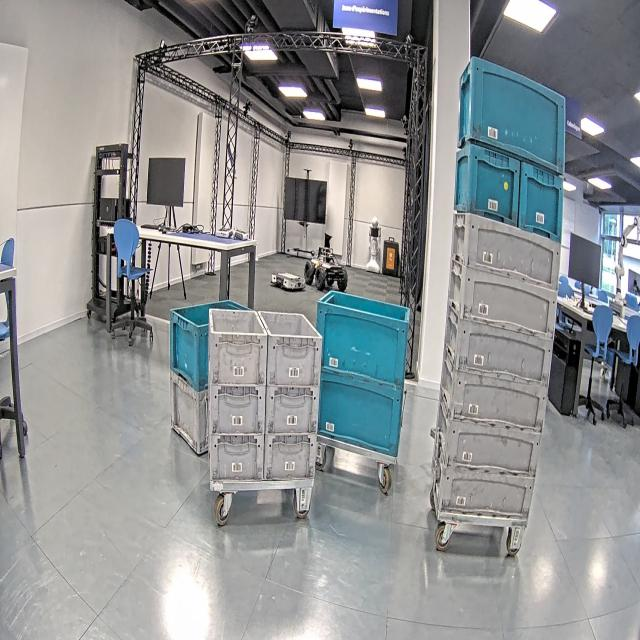Box3G: (436, 377, 550, 475), (447, 258, 561, 339), (438, 358, 554, 435), (452, 207, 562, 288), (444, 313, 557, 387), (437, 453, 541, 519)
Box8G: (258, 309, 323, 389), (207, 306, 268, 388), (171, 371, 211, 454), (207, 385, 265, 440), (264, 386, 320, 438), (206, 432, 262, 482), (263, 434, 318, 482)
BoxB4: (457, 56, 570, 173), (310, 290, 409, 394), (314, 368, 404, 461), (168, 304, 212, 376)
BoxB8: (455, 144, 520, 228), (520, 162, 564, 248)
